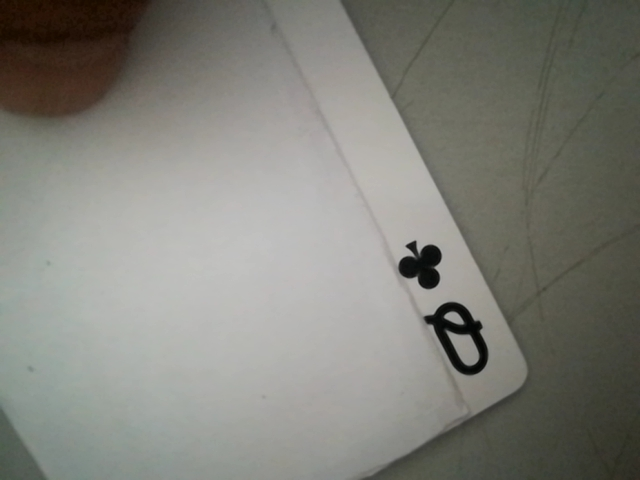mh q: (386, 230, 509, 392)
